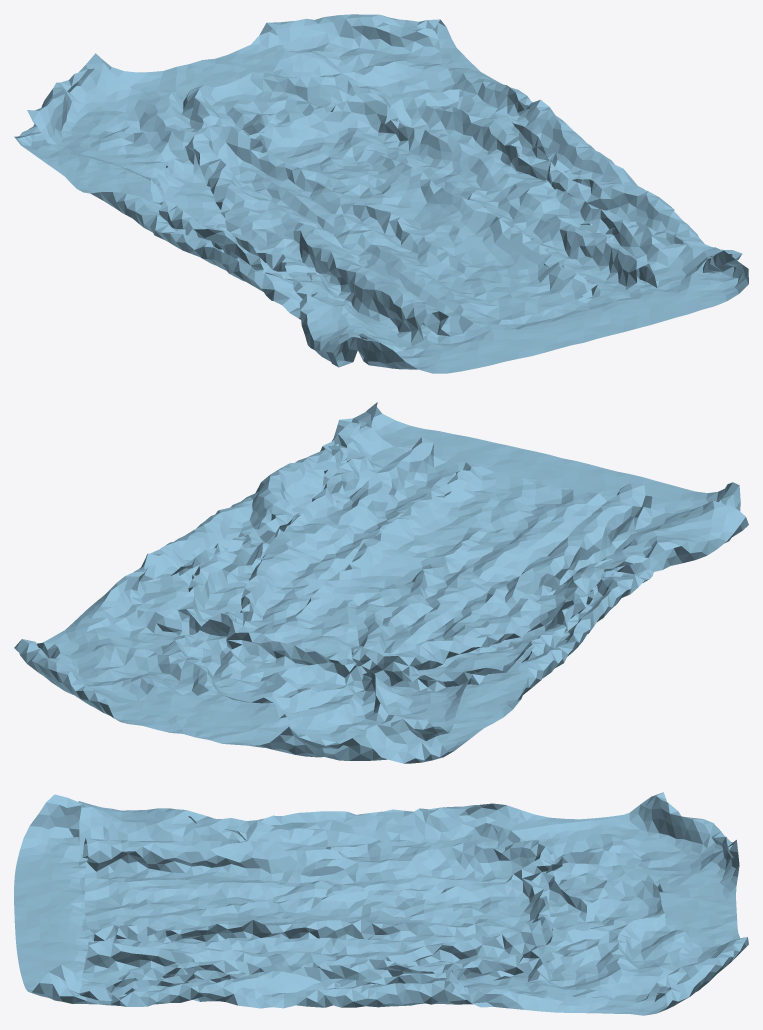
The model's file is frame_00.glb.
The picture shows the model from 3 angles, top to bottom: view 1: azimuth 30°, elevation 25°; view 2: azimuth 150°, elevation 25°; view 3: azimuth 270°, elevation 25°; orthographic projection. The views are drawn at different scales.
Visible parts, largest first — view 1: frame_00.obj; view 2: frame_00.obj; view 3: frame_00.obj.
Boxes of the visible parts, box(x1,y1,x2,y2) form: frame_00.obj: box(14, 14, 748, 373); frame_00.obj: box(14, 402, 748, 763); frame_00.obj: box(14, 792, 748, 1015).
Bounding box in the file's own units: 1.19 × 0.1147 × 1.85.
